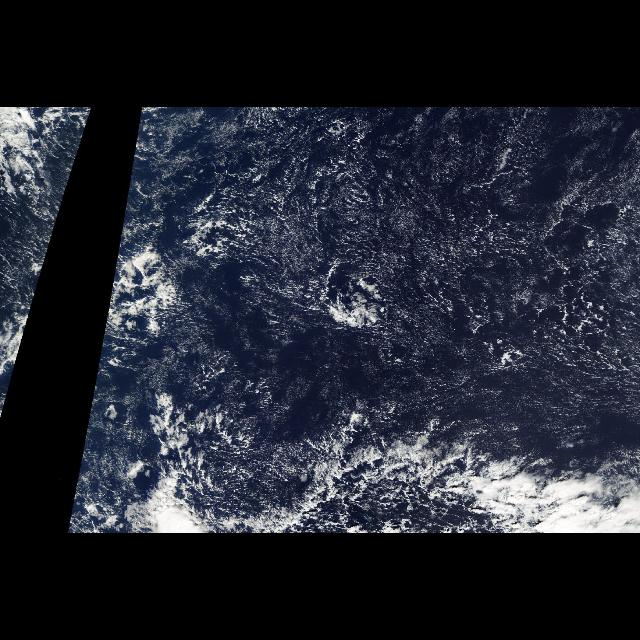Gravel: (500, 193, 640, 394), (296, 470, 469, 532)
Sugar: (117, 109, 639, 438)
